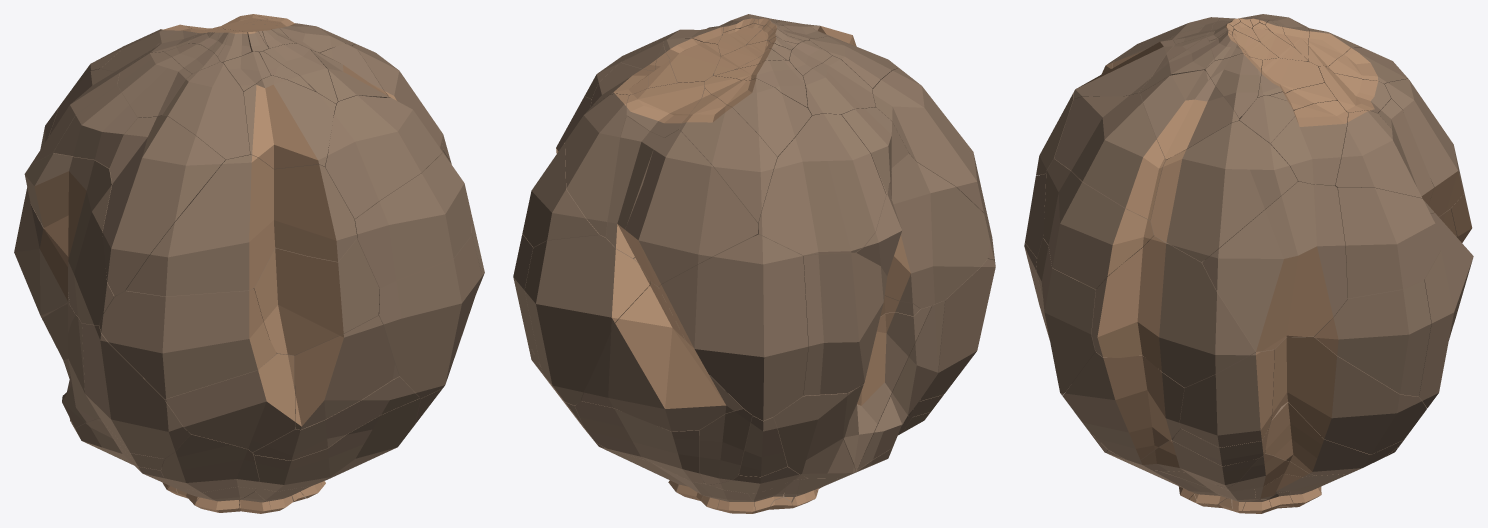
File: OnionSplit.fbx
The picture shows the model from 3 angles, left to right: view 1: azimuth 30°, elevation 25°; view 2: azimuth 150°, elevation 25°; view 3: azimuth 270°, elevation 25°; orthographic projection.
Parts seen in each view (by area): view 1: Sphere.003_cell.093, Sphere.003_cell.002, Sphere.003_cell.086, Sphere.003_cell.044, Sphere.003_cell.001, Sphere.003_cell.049, Sphere.003_cell.012, Sphere.003_cell.076, Sphere.003_cell.060, Sphere.003_cell.048, Sphere.003_cell.018, Sphere.003_cell.026 (+25 smaller); view 2: Sphere.003_cell.071, Sphere.003_cell.032, Sphere.003_cell.004, Sphere.003_cell.012, Sphere.003_cell.052, Sphere.003_cell.009, Sphere.003_cell.035, Sphere.003_cell.086, Sphere.003_cell.069, Sphere.003_cell.078, Sphere.003_cell.079, Sphere.003_cell.054 (+26 smaller); view 3: Sphere.003_cell.028, Sphere.003_cell.038, Sphere.003_cell.031, Sphere.003_cell.014, Sphere.003_cell.076, Sphere.003_cell.084, Sphere.003_cell.091, Sphere.003_cell.049, Sphere.003_cell.053, Sphere.003_cell.088, Sphere.003_cell.083, Sphere.003_cell.001 (+31 smaller).
Boxes of the visible parts, x1,y1,x2,y2 form: Sphere.003_cell.093: (126, 155, 356, 296); Sphere.003_cell.002: (99, 288, 276, 398); Sphere.003_cell.086: (102, 115, 225, 296); Sphere.003_cell.044: (253, 239, 379, 355); Sphere.003_cell.001: (378, 235, 481, 398); Sphere.003_cell.049: (354, 152, 471, 288); Sphere.003_cell.012: (24, 153, 116, 324); Sphere.003_cell.076: (325, 95, 442, 218); Sphere.003_cell.060: (164, 353, 295, 452); Sphere.003_cell.048: (82, 323, 190, 458); Sphere.003_cell.018: (294, 315, 399, 429); Sphere.003_cell.026: (243, 75, 335, 169); Sphere.003_cell.071: (658, 234, 808, 420); Sphere.003_cell.032: (524, 235, 650, 405); Sphere.003_cell.004: (758, 113, 886, 255); Sphere.003_cell.012: (854, 154, 990, 308); Sphere.003_cell.052: (581, 281, 743, 431); Sphere.003_cell.009: (625, 130, 757, 286); Sphere.003_cell.035: (802, 252, 920, 395); Sphere.003_cell.086: (872, 68, 985, 219); Sphere.003_cell.069: (679, 88, 777, 234); Sphere.003_cell.078: (565, 93, 628, 237); Sphere.003_cell.079: (843, 306, 931, 470); Sphere.003_cell.054: (773, 393, 855, 478); Sphere.003_cell.028: (1202, 181, 1347, 351); Sphere.003_cell.038: (1091, 236, 1255, 387); Sphere.003_cell.031: (1150, 120, 1297, 262); Sphere.003_cell.014: (1271, 336, 1426, 454); Sphere.003_cell.076: (1054, 93, 1165, 220); Sphere.003_cell.084: (1062, 352, 1184, 462); Sphere.003_cell.091: (1337, 187, 1440, 298); Sphere.003_cell.049: (1043, 159, 1153, 289); Sphere.003_cell.053: (1314, 280, 1431, 396); Sphere.003_cell.088: (1179, 349, 1274, 447); Sphere.003_cell.083: (1140, 70, 1239, 159); Sphere.003_cell.001: (1036, 238, 1095, 395).
Size of the model in its own units: 227 by 251 by 223.
